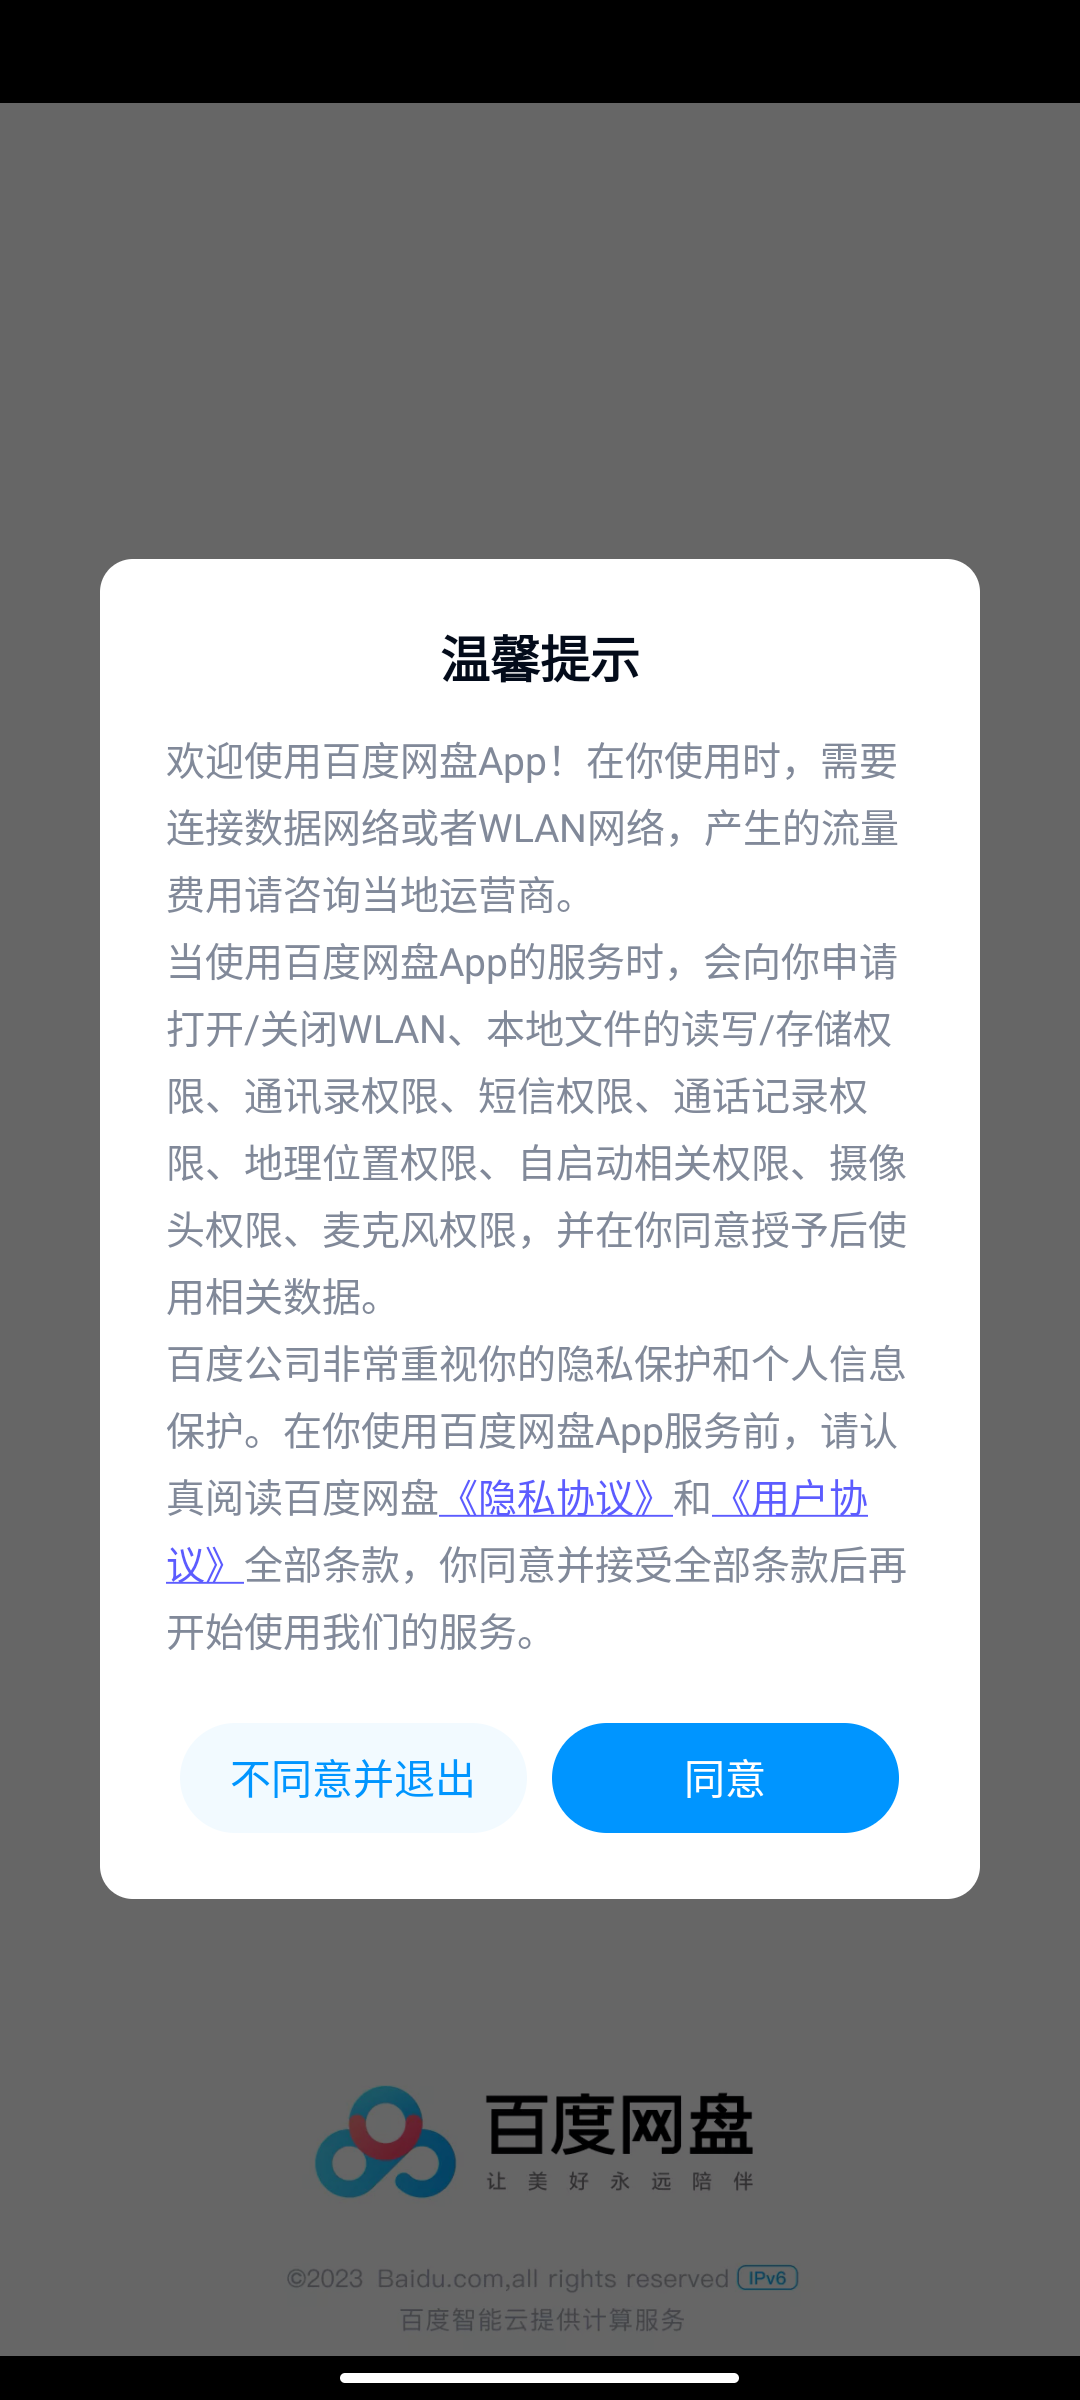ui_group: (98, 551, 984, 1906)
